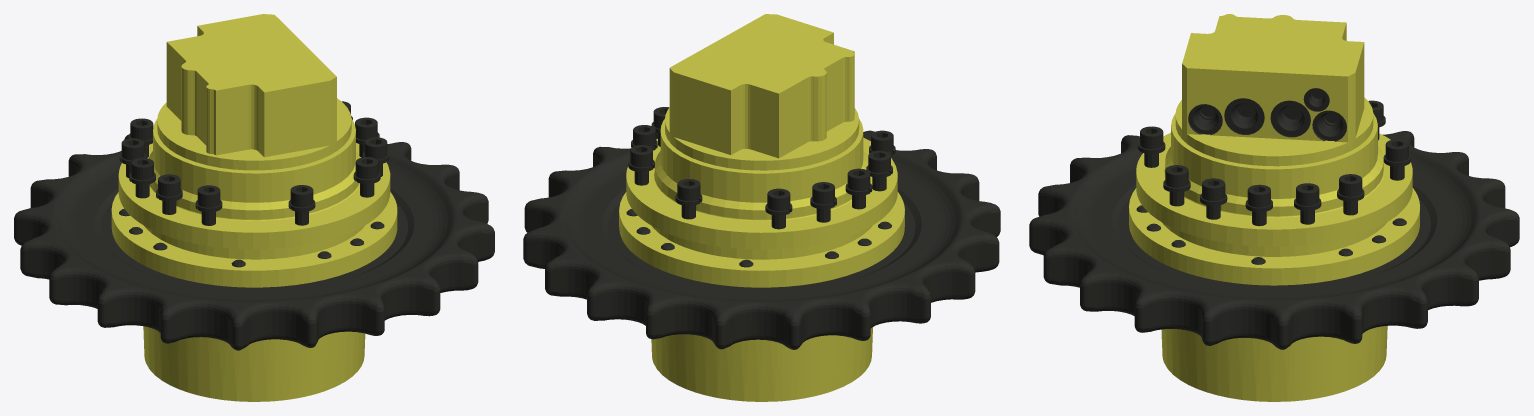
Rendered from TravelDevice.glb.
The picture shows the model from 3 angles, left to right: view 1: azimuth 30°, elevation 25°; view 2: azimuth 150°, elevation 25°; view 3: azimuth 270°, elevation 25°; orthographic projection.
Bounding box in the file's own units: 5.05 × 3.5 × 5.05.
